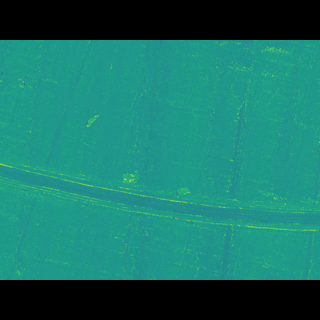Loch: (0, 154, 320, 216)
